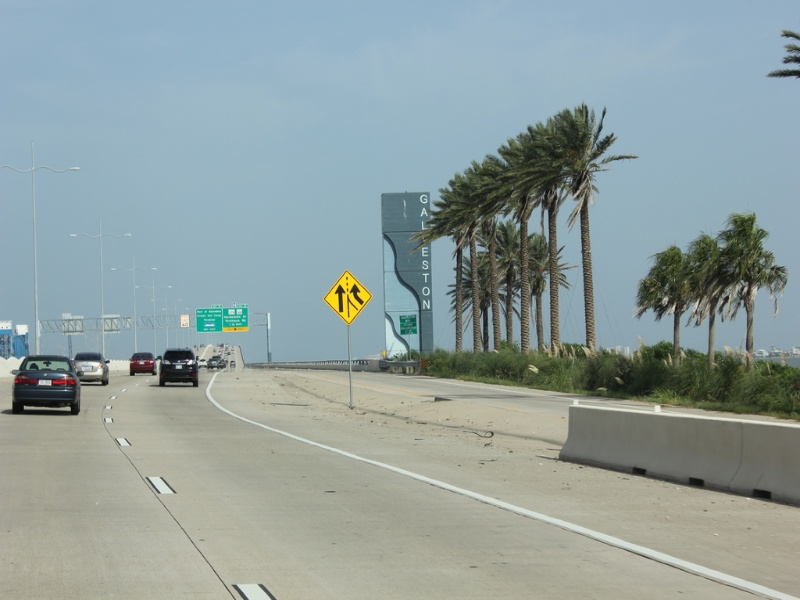straight_direction: (332, 282, 346, 314)
